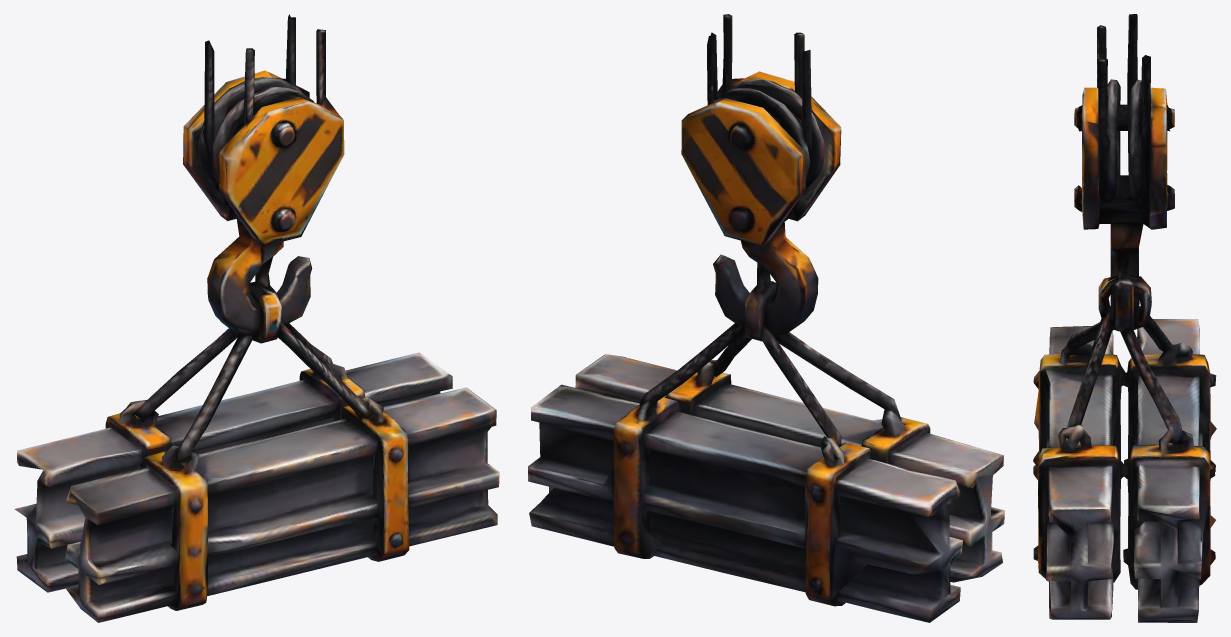
The model's file is GW_INT_crane_load.glb.
3 views of the same model, side by side, from view 1: azimuth 30°, elevation 25°; view 2: azimuth 150°, elevation 25°; view 3: azimuth 270°, elevation 25° (orthographic). The views are drawn at different scales.
Parts seen in each view (by area): view 1: tripo_node_dd059317-dfee-4770-88ff-ea5ce0a87f70; view 2: tripo_node_dd059317-dfee-4770-88ff-ea5ce0a87f70; view 3: tripo_node_dd059317-dfee-4770-88ff-ea5ce0a87f70.
Part boxes in pixels (x1,y1,x2,y2): tripo_node_dd059317-dfee-4770-88ff-ea5ce0a87f70: (14,14,499,622); tripo_node_dd059317-dfee-4770-88ff-ea5ce0a87f70: (528,14,1004,622); tripo_node_dd059317-dfee-4770-88ff-ea5ce0a87f70: (1033,14,1216,622).
Bounding box in the file's own units: 0.8087 × 0.9985 × 0.3311.
Materials: 1 (1 with a texture image).
